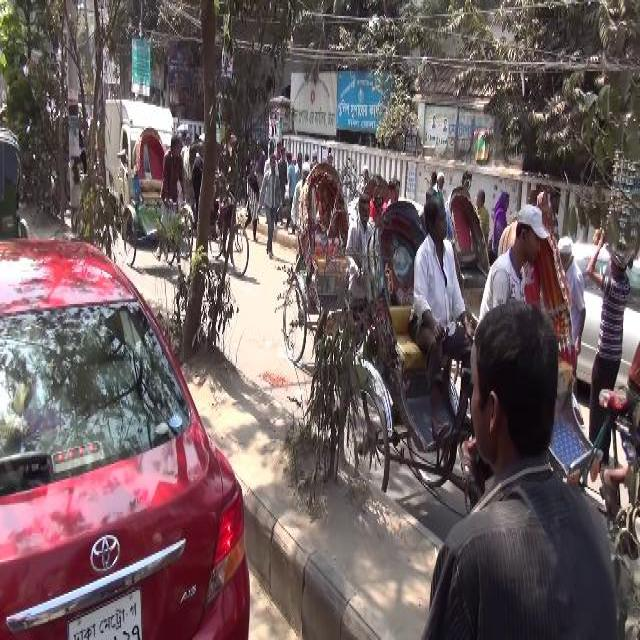car: (0, 233, 253, 636)
rickshaw: (329, 183, 547, 500), (281, 156, 375, 374), (120, 119, 192, 283), (445, 186, 505, 337), (0, 132, 31, 244)
